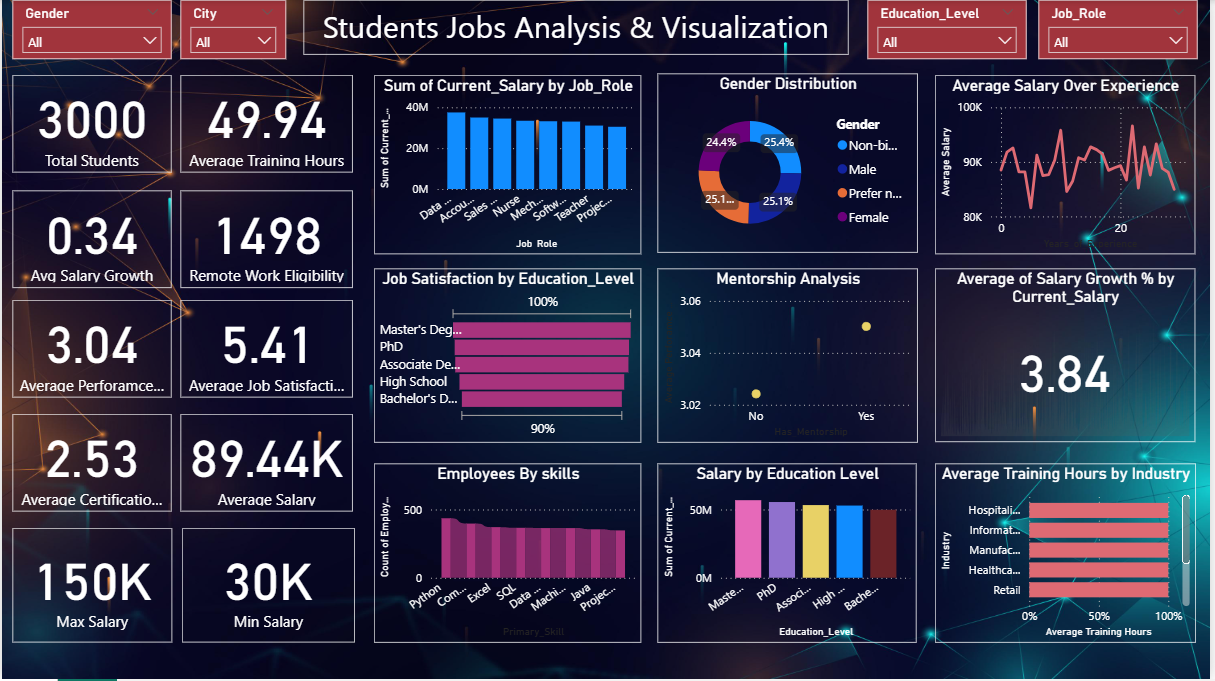

This screenshot's page, from the dashboard's own definition file:
{"tool":"powerbi","page":{"name":"Page 1","canvas":[1280,720],"ordinal":0},"visuals":[{"type":"card","fields":{"Values":["FactStudents.Total Students"]},"box":[11.3,79.4,168.7,103.5],"z":0},{"type":"textbox","box":[320.3,0,578.3,58.1],"z":1000},{"type":"card","fields":{"Values":["FactStudents.Average Training Hours"]},"box":[189.9,79.4,182.8,103.5],"z":2000},{"type":"card","fields":{"Values":["FactStudents.Average Certification Count"]},"box":[11.3,439.4,168.7,103.5],"z":3000},{"type":"card","fields":{"Values":["FactStudents.Average Job Satisfaction"]},"box":[189.9,318.9,182.8,103.5],"z":4000},{"type":"card","fields":{"Values":["FactStudents.Average Perforamce Score"]},"box":[11.3,318.9,168.7,103.5],"z":5000},{"type":"card","fields":{"Values":["FactStudents.Average Salary"]},"box":[189.9,439.4,182.8,103.5],"z":6000},{"type":"card","fields":{"Values":["FactStudents.Min Salary"]},"box":[190.2,559.9,183.1,121.5],"z":7000},{"type":"card","fields":{"Values":["FactStudents.Max Salary"]},"box":[10.6,559.9,169,121.5],"z":8000},{"type":"columnChart","fields":{"Category":["DimJobInfo.Job_Role"],"Y":["Sum(FactStudents.Current_Salary)"]},"box":[394,79.4,283.5,189.9],"z":9000},{"type":"card","fields":{"Values":["FactStudents.Avg Salary Growth"]},"box":[11.3,201.3,168.7,103.5],"z":10000},{"type":"card","fields":{"Values":["DimWorkPreferences.Remote Work Eligibility"]},"box":[189.9,201.3,182.8,103.5],"z":11000},{"type":"donutChart","title":"Gender Distribution","fields":{"Category":["DimEmployees.Gender"],"Y":["CountNonNull(DimEmployees.Employee_ID)"]},"box":[695.1,78.7,276,190.2],"z":12000},{"type":"lineChart","title":"Average Salary Over Experience","fields":{"Category":["FactStudents.Years_of_Experience"],"Y":["FactStudents.Average Salary"]},"box":[990,79,276,190],"z":13000},{"type":"slicer","fields":{"Values":["DimEmployees.Gender"]},"box":[11.3,0,168.7,62.4],"z":14000},{"type":"slicer","fields":{"Values":["DimEducation.Education_Level"]},"box":[918.4,0,168.7,62.4],"z":15000},{"type":"slicer","fields":{"Values":["DimJobInfo.Job_Role"]},"box":[1098.4,0,168.7,62.4],"z":16000},{"type":"slicer","fields":{"Values":["DimEmployees.City"]},"box":[189.9,0,112,62.4],"z":17000},{"type":"funnel","title":" Job Satisfaction by Education_Level","fields":{"Category":["DimEducation.Education_Level"],"Y":["Sum(FactStudents.Job_Satisfaction_Score)"]},"box":[394.7,284.6,283.2,184.5],"z":18000},{"type":"scatterChart","title":"Mentorship Analysis","fields":{"Y":["FactStudents.Average Perforamce Score"],"X":["DimWorkPreferences.Has_Mentorship"]},"box":[695.1,284.6,276,184.5],"z":19000},{"type":"kpi","fields":{"Indicator":["Avg(FactStudents.Salary Growth %)"],"TrendLine":["FactStudents.Current_Salary"]},"box":[990,285,276,184],"z":20000},{"type":"ribbonChart","title":"Employees By skills","fields":{"Category":["DimSkills.Primary_Skill"],"Y":["CountNonNull(DimSkills.Employee_ID)"]},"box":[394.4,491.2,283.5,190.2],"z":20001},{"type":"clusteredColumnChart","title":"Salary by Education Level","fields":{"Category":["DimEducation.Education_Level"],"Y":["Sum(FactStudents.Current_Salary)"]},"box":[695.5,491.2,274.7,190.2],"z":20002},{"type":"hundredPercentStackedBarChart","fields":{"Category":["DimJobInfo.Industry"],"Y":["FactStudents.Average Training Hours"]},"box":[989.5,491.2,276.4,190.2],"z":20003}]}

Visuals, with their boxes in screenshot pixels (x1, y1, x2, y2), scaled from the page's 1280x720 canvas onto the 1215x681 screenshot:
card - FactStudents.Total Students: (left=11, top=75, right=171, bottom=173)
textbox: (left=304, top=0, right=853, bottom=55)
card - FactStudents.Average Training Hours: (left=180, top=75, right=354, bottom=173)
card - FactStudents.Average Certification Count: (left=11, top=416, right=171, bottom=513)
card - FactStudents.Average Job Satisfaction: (left=180, top=302, right=354, bottom=400)
card - FactStudents.Average Perforamce Score: (left=11, top=302, right=171, bottom=400)
card - FactStudents.Average Salary: (left=180, top=416, right=354, bottom=513)
card - FactStudents.Min Salary: (left=181, top=530, right=354, bottom=644)
card - FactStudents.Max Salary: (left=10, top=530, right=170, bottom=644)
columnChart - DimJobInfo.Job_Role x Sum(FactStudents.Current_Salary): (left=374, top=75, right=643, bottom=255)
card - FactStudents.Avg Salary Growth: (left=11, top=190, right=171, bottom=288)
card - DimWorkPreferences.Remote Work Eligibility: (left=180, top=190, right=354, bottom=288)
"Gender Distribution" donutChart: (left=660, top=74, right=922, bottom=254)
"Average Salary Over Experience" lineChart: (left=940, top=75, right=1202, bottom=254)
slicer - DimEmployees.Gender: (left=11, top=0, right=171, bottom=59)
slicer - DimEducation.Education_Level: (left=872, top=0, right=1032, bottom=59)
slicer - DimJobInfo.Job_Role: (left=1043, top=0, right=1203, bottom=59)
slicer - DimEmployees.City: (left=180, top=0, right=287, bottom=59)
" Job Satisfaction by Education_Level" funnel: (left=375, top=269, right=643, bottom=444)
"Mentorship Analysis" scatterChart: (left=660, top=269, right=922, bottom=444)
kpi - Avg(FactStudents.Salary Growth %) x FactStudents.Current_Salary: (left=940, top=270, right=1202, bottom=444)
"Employees By skills" ribbonChart: (left=374, top=465, right=643, bottom=644)
"Salary by Education Level" clusteredColumnChart: (left=660, top=465, right=921, bottom=644)
hundredPercentStackedBarChart - DimJobInfo.Industry x FactStudents.Average Training Hours: (left=939, top=465, right=1202, bottom=644)
